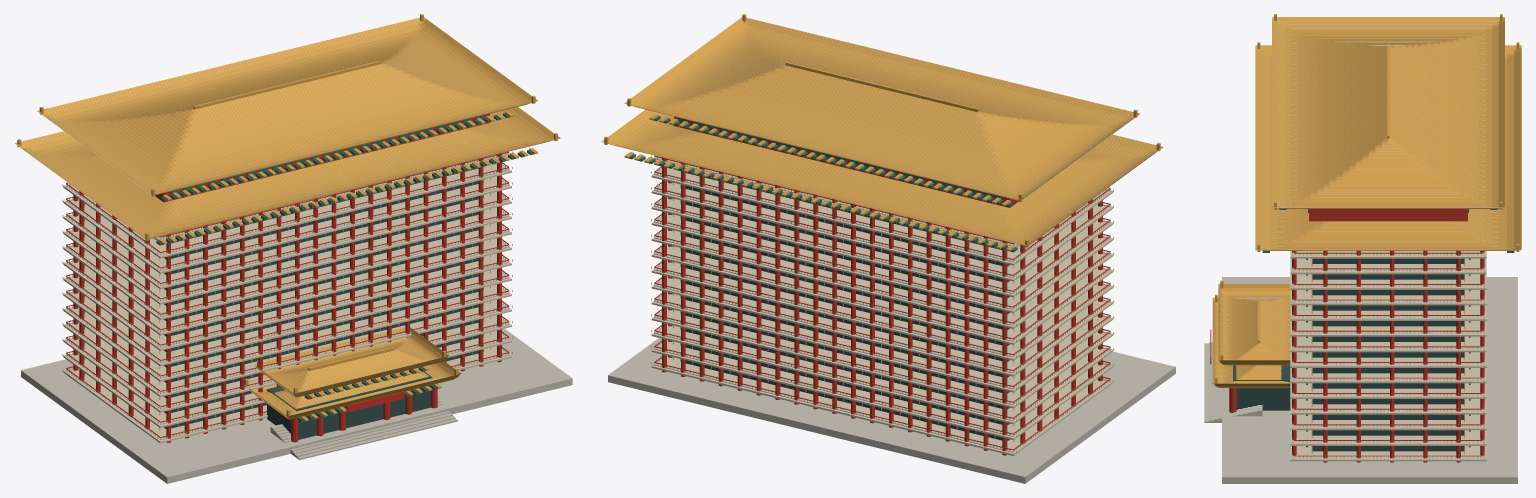
The model's file is grand-hotel.glb.
The picture shows the model from 3 angles, left to right: view 1: azimuth 30°, elevation 25°; view 2: azimuth 150°, elevation 25°; view 3: azimuth 270°, elevation 25°; orthographic projection. The views are drawn at different scales.
Parts seen in each view (by area): view 1: cream, gold, vermilion, stone, glass, jade; view 2: cream, gold, vermilion, stone, glass, jade; view 3: gold, cream, stone, glass, vermilion.
Boxes of the visible parts, bbox=[...] form: cream: bbox=[19, 17, 551, 443]; gold: bbox=[14, 14, 560, 421]; vermilion: bbox=[66, 114, 509, 442]; stone: bbox=[21, 328, 572, 483]; glass: bbox=[164, 167, 483, 439]; jade: bbox=[74, 113, 533, 422]; cream: bbox=[610, 17, 1161, 455]; gold: bbox=[601, 14, 1163, 251]; vermilion: bbox=[654, 116, 1110, 455]; stone: bbox=[608, 338, 1175, 483]; glass: bbox=[680, 172, 1009, 440]; jade: bbox=[628, 116, 1102, 388]; gold: bbox=[1212, 14, 1521, 387]; cream: bbox=[1213, 21, 1520, 461]; stone: bbox=[1204, 277, 1517, 483]; glass: bbox=[1233, 258, 1464, 451]; vermilion: bbox=[1210, 209, 1484, 462].
Bounding box in the file's own units: 131 × 87.65 × 85.75.
